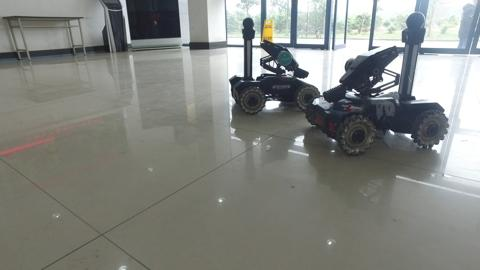chariot: (299, 10, 450, 160), (220, 15, 324, 116)
